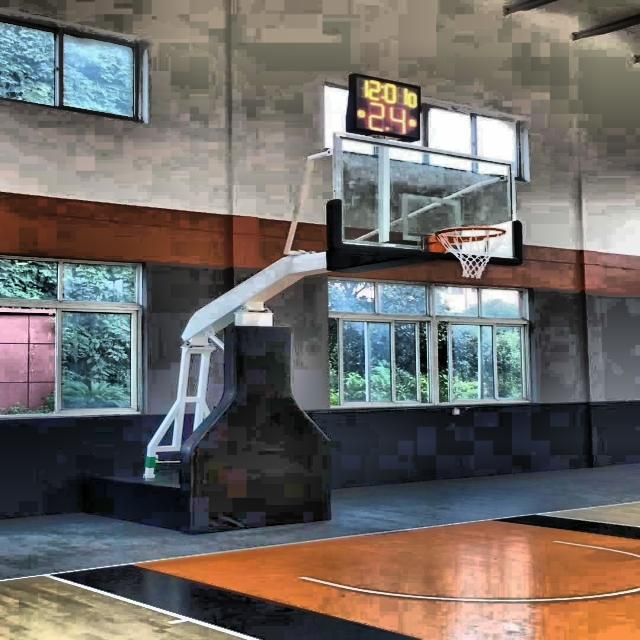rim: (432, 227, 510, 279)
